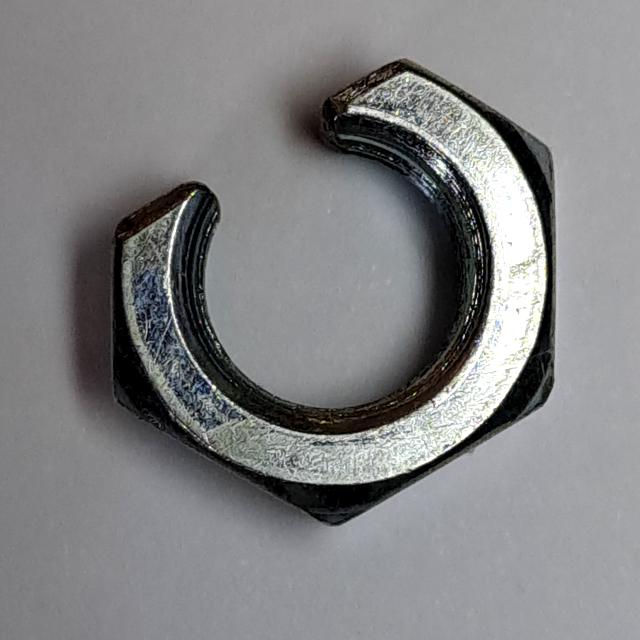Fracture: (100, 49, 570, 542)
